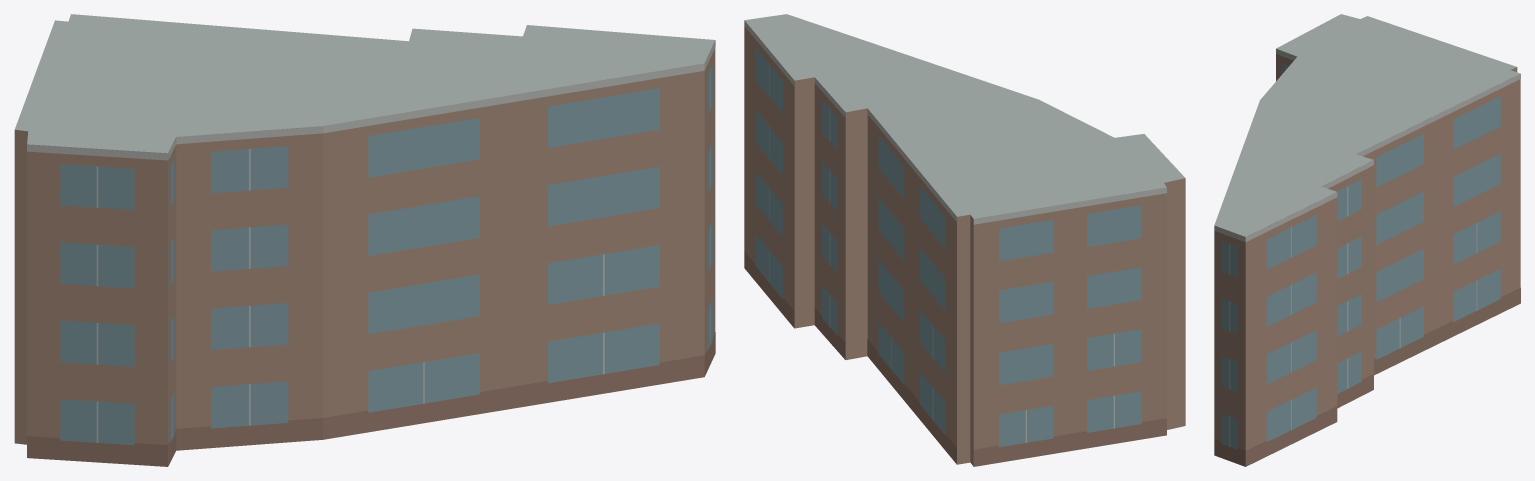
Rendered from survey-upis-32494332.glb.
3 renders of one model, left to right at view 1: azimuth 30°, elevation 25°; view 2: azimuth 150°, elevation 25°; view 3: azimuth 270°, elevation 25°, orthographic. The views are drawn at different scales.
Parts seen in each view (by area): view 1: survey-upis-32494332.tmp; view 2: survey-upis-32494332.tmp; view 3: survey-upis-32494332.tmp.
Boxes of the visible parts, box(x1,y1,x2,y2) form: survey-upis-32494332.tmp: box(14, 14, 715, 466); survey-upis-32494332.tmp: box(744, 14, 1185, 466); survey-upis-32494332.tmp: box(1214, 14, 1520, 466).
Bounding box in the file's own units: 21.84 × 10.5 × 12.69.
